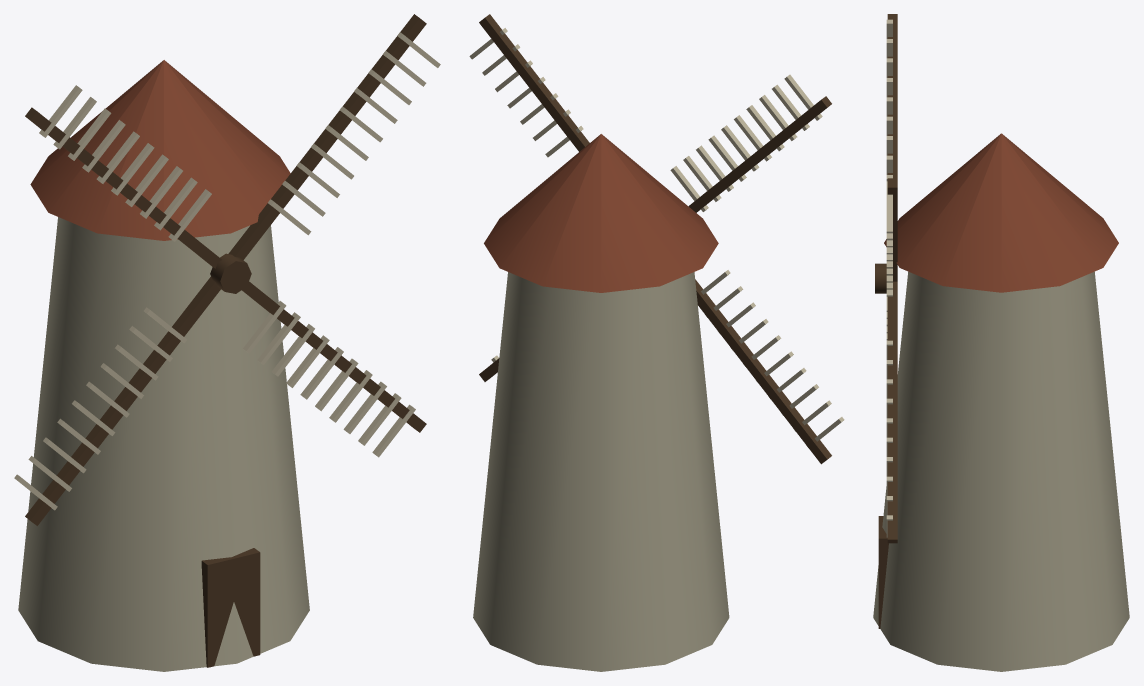
3 views of the same model, side by side, from view 1: azimuth 30°, elevation 25°; view 2: azimuth 150°, elevation 25°; view 3: azimuth 270°, elevation 25° (orthographic). The views are drawn at different scales.
Visible parts, largest first — view 1: alpine-body, alpine-windmill-rotor; view 2: alpine-body, alpine-windmill-rotor; view 3: alpine-body, alpine-windmill-rotor.
Boxes of the visible parts, box(x1,y1,x2,y2) form: alpine-body: box(18, 60, 309, 671); alpine-windmill-rotor: box(14, 14, 440, 525); alpine-body: box(473, 134, 729, 671); alpine-windmill-rotor: box(469, 14, 844, 464); alpine-body: box(873, 133, 1129, 671); alpine-windmill-rotor: box(886, 14, 897, 543).
Size of the model in its own units: 12.06 by 16.53 by 7.2.
